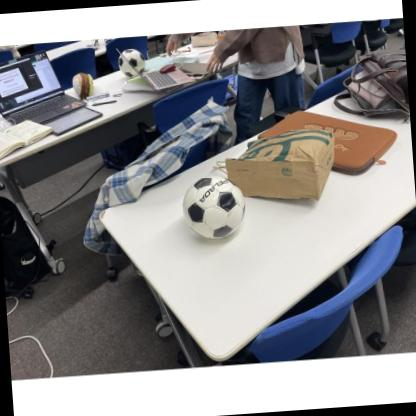ball: (182, 174, 247, 240)
